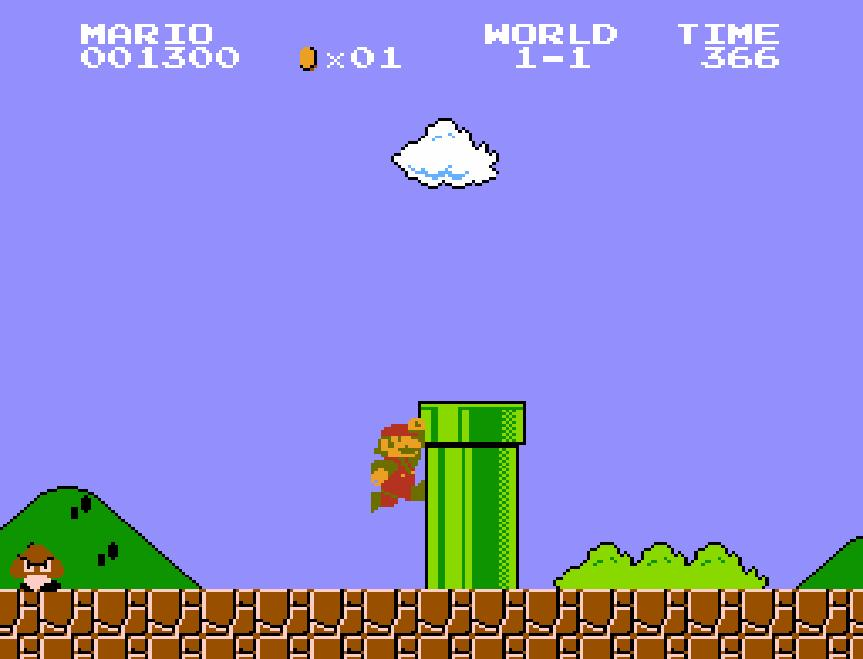big_mario: (368, 416, 426, 514)
